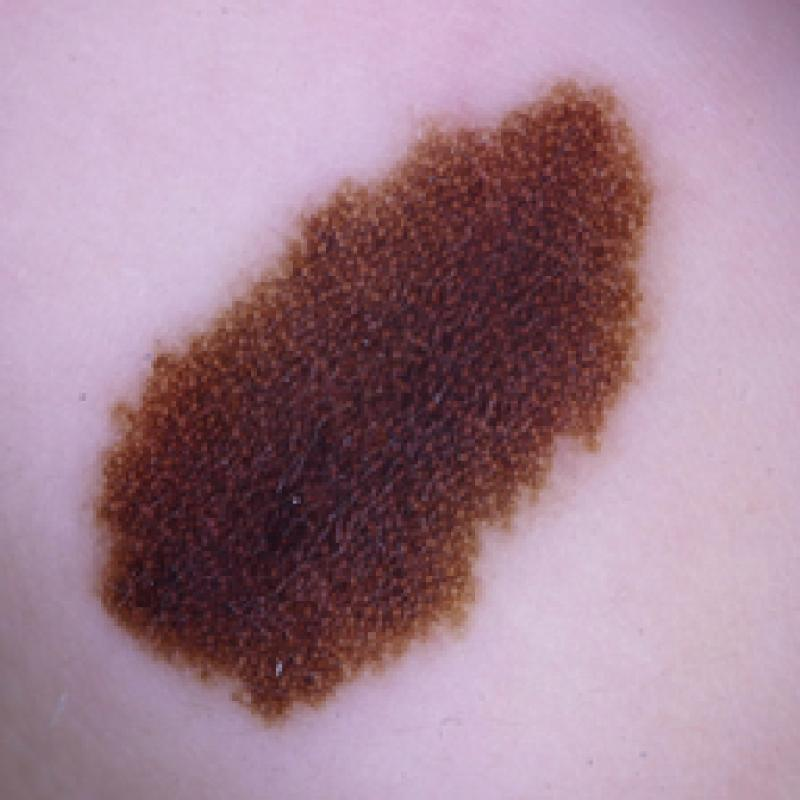benign: (75, 56, 665, 736)
